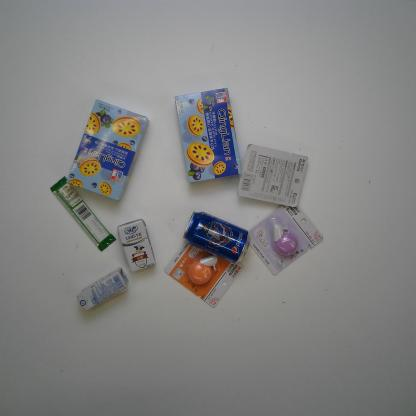Chocolate: (50, 176, 116, 254)
Dessert: (66, 97, 153, 207), (173, 84, 243, 186)
Drink: (180, 207, 255, 266)
Milk: (76, 266, 130, 314), (117, 217, 156, 275)
Stationery: (165, 229, 246, 313), (244, 197, 325, 278), (235, 142, 312, 210)
